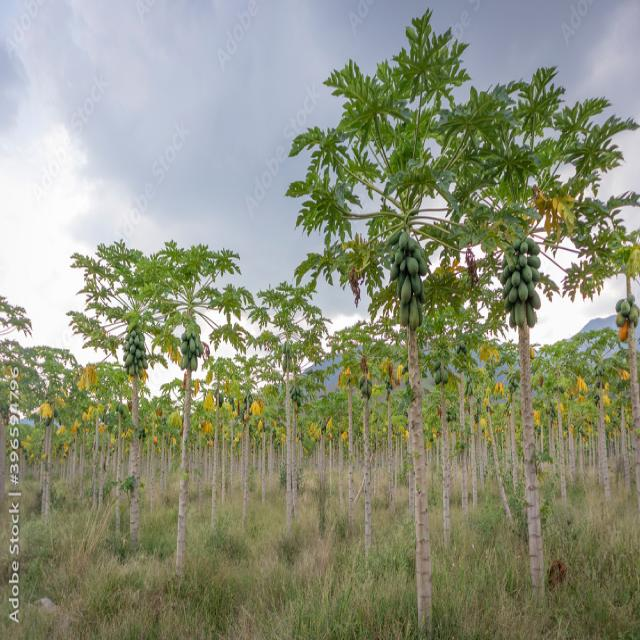Papaya-Tree: (292, 16, 620, 612), (71, 211, 298, 559)
